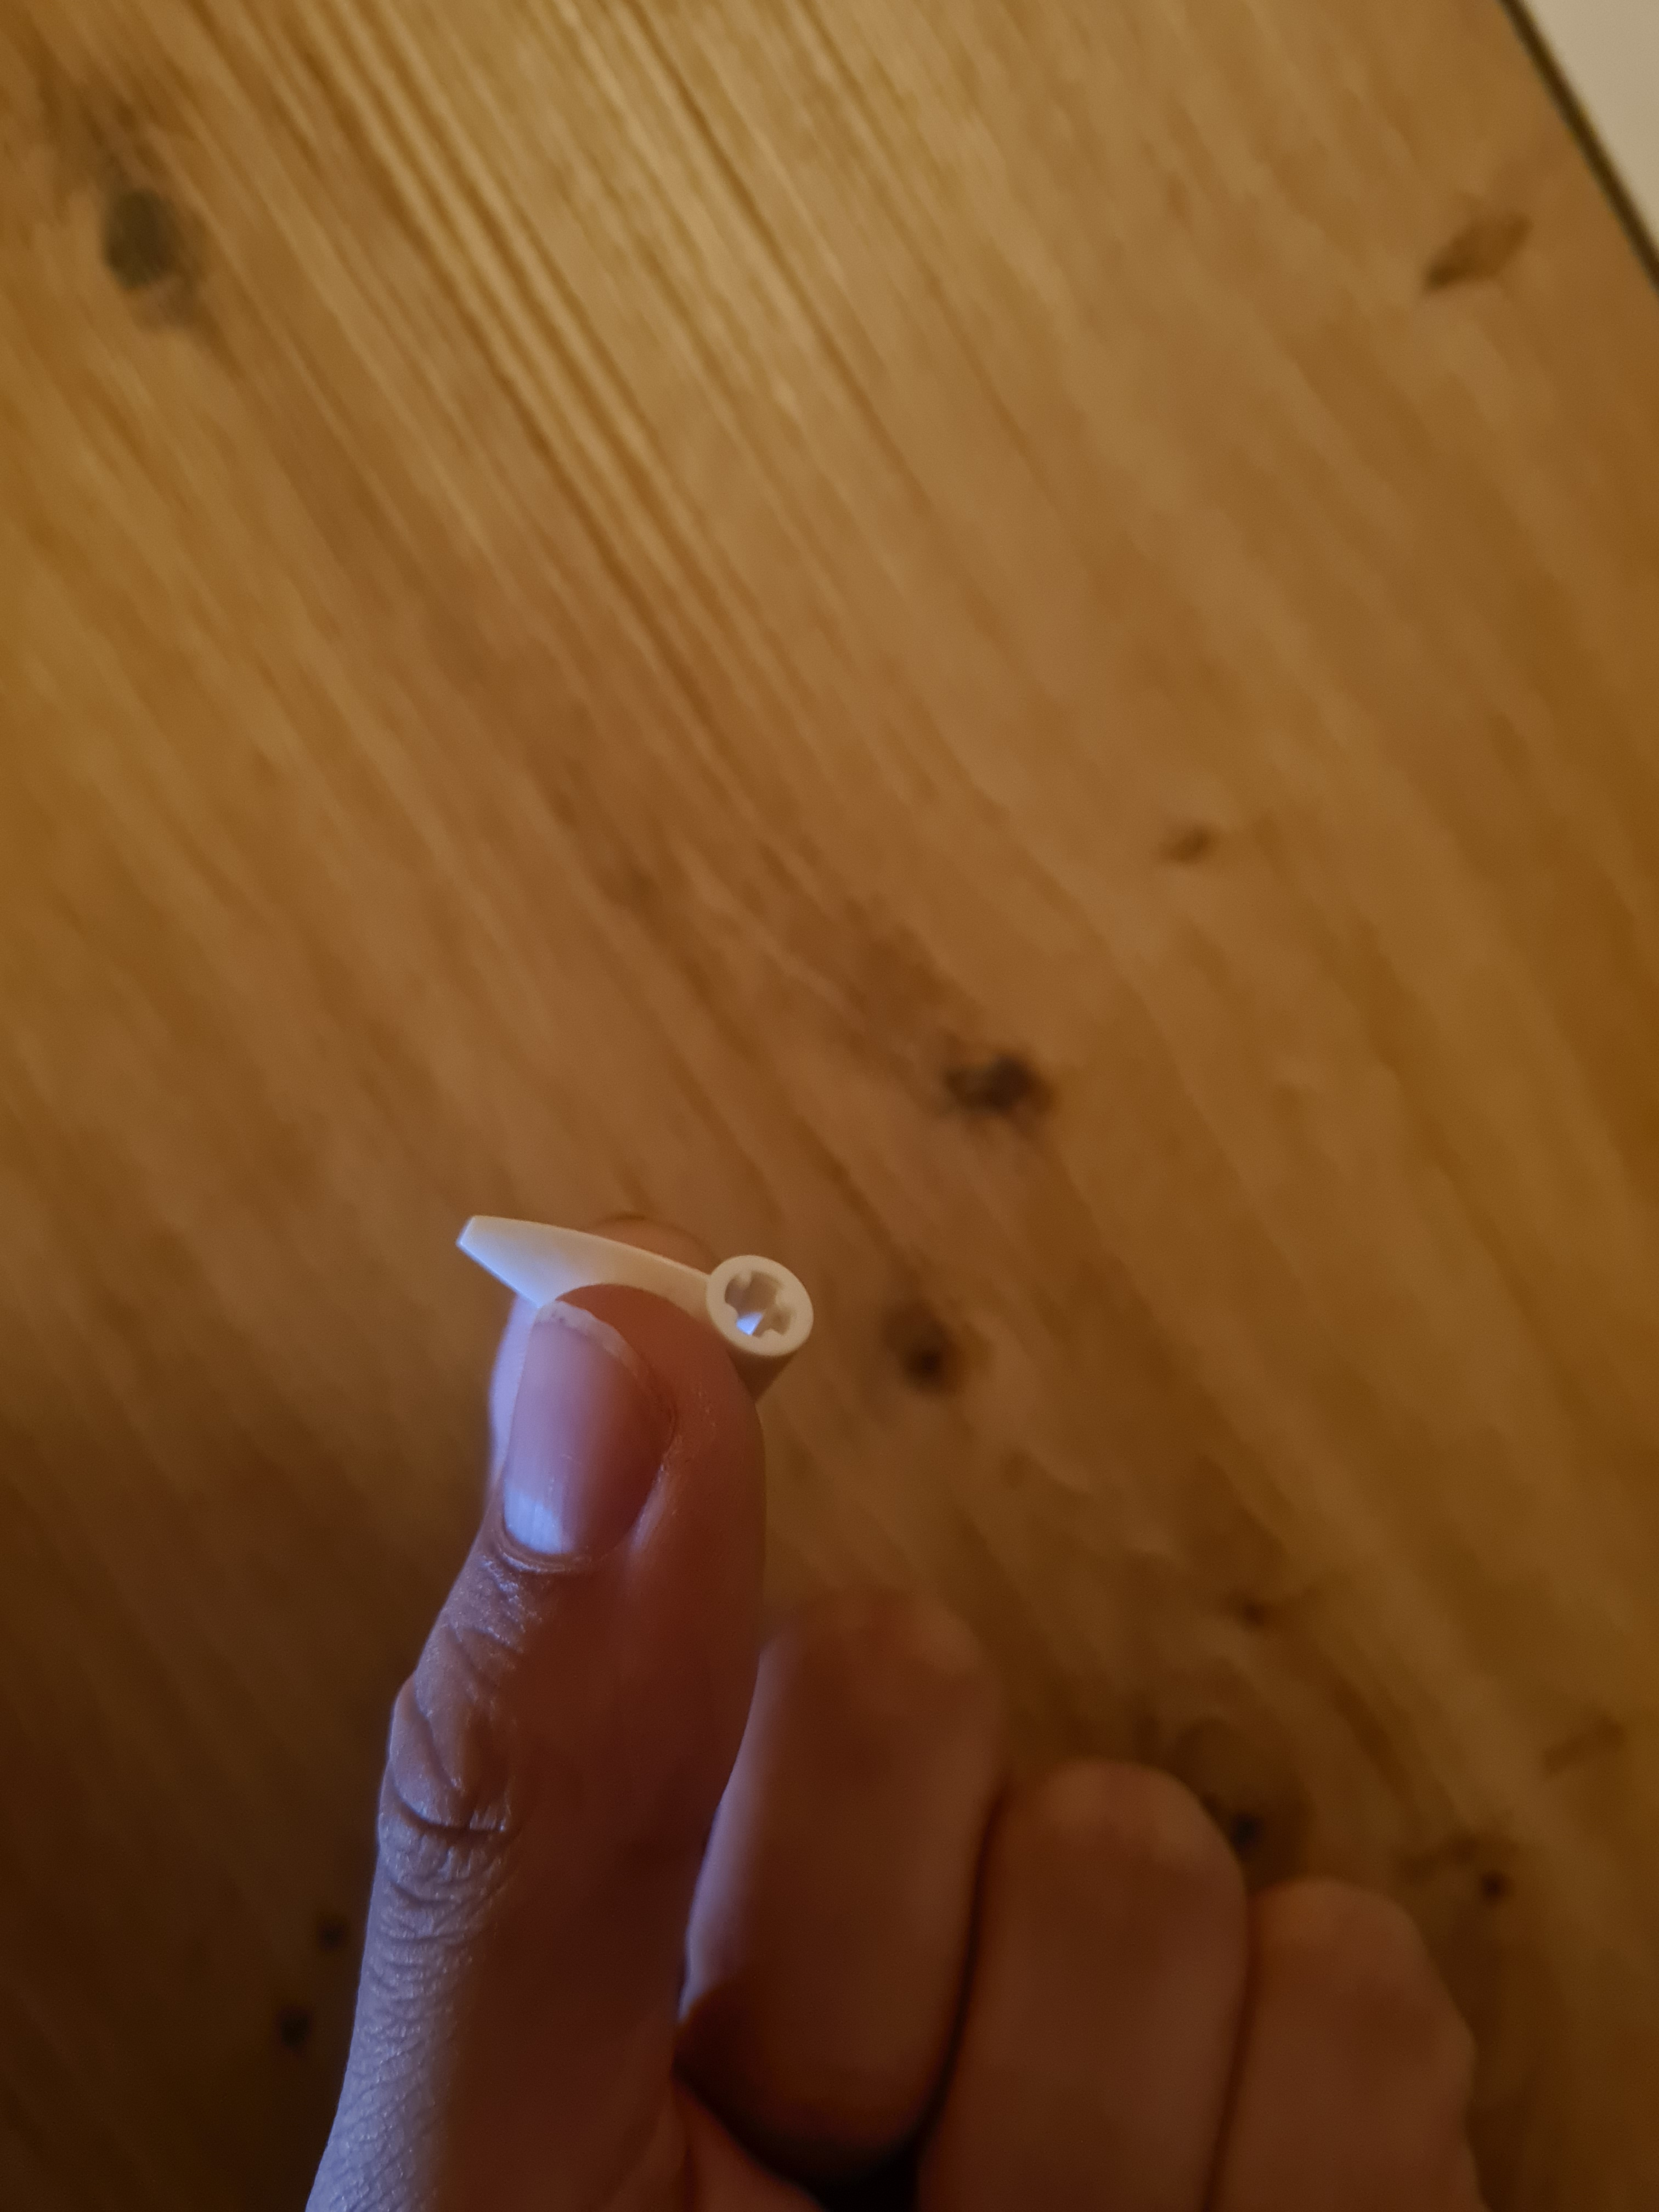Kappe: (425, 1150, 854, 1440)
